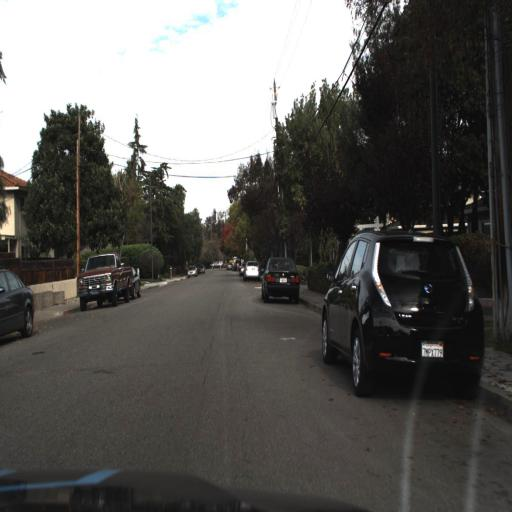car: (320, 220, 484, 402), (71, 246, 132, 316), (256, 251, 305, 313), (0, 266, 36, 350), (239, 258, 262, 284), (128, 258, 142, 300), (186, 264, 200, 282)
